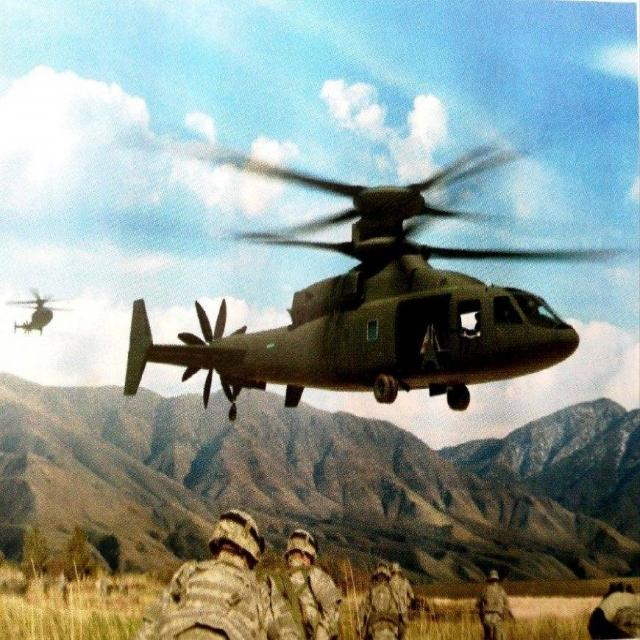MIL_HELO: (78, 122, 640, 410), (5, 271, 75, 350)
